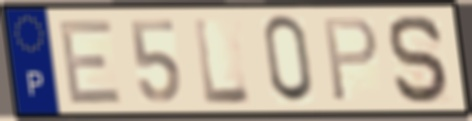0: (260, 12, 317, 108)
5: (127, 17, 184, 105)
E: (55, 16, 125, 107)
L: (191, 14, 255, 107)
P: (321, 15, 381, 105)
S: (386, 12, 454, 106)
